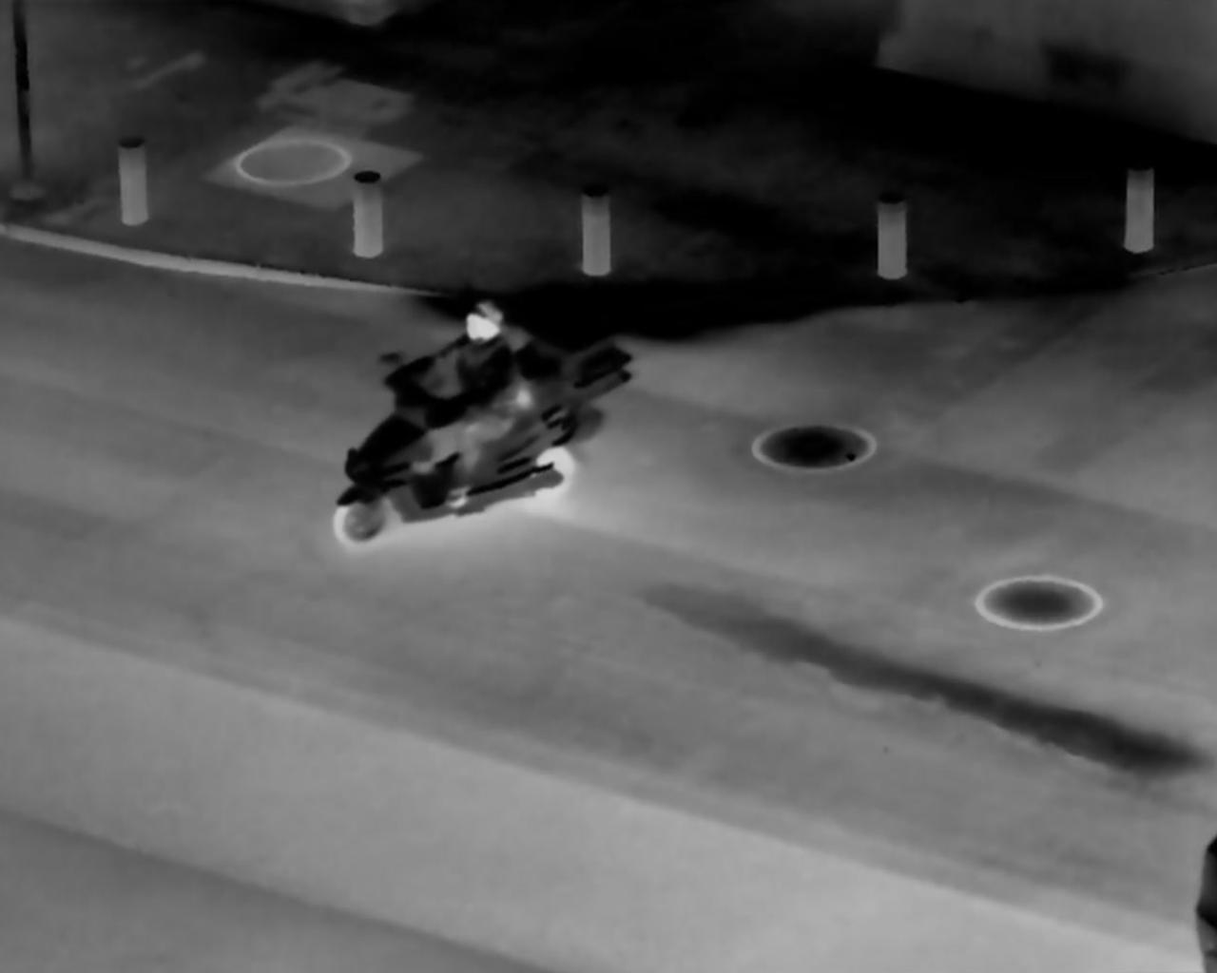person: (403, 287, 524, 468)
